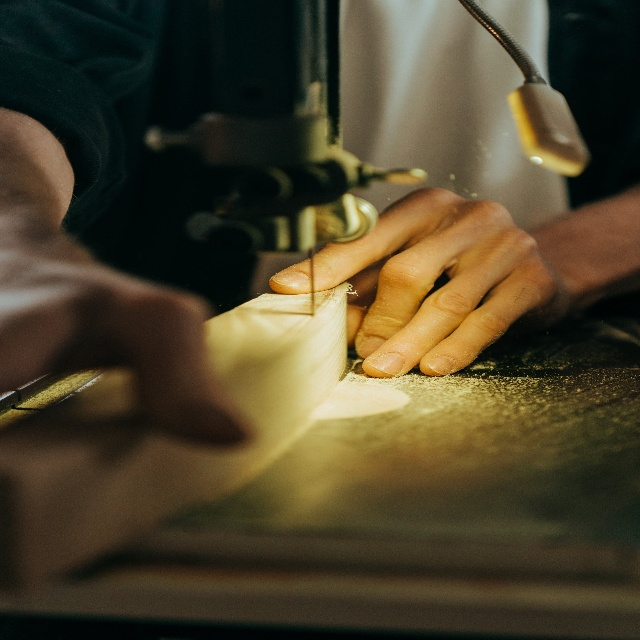Sin_guantes: (0, 178, 255, 464), (269, 181, 562, 378)
